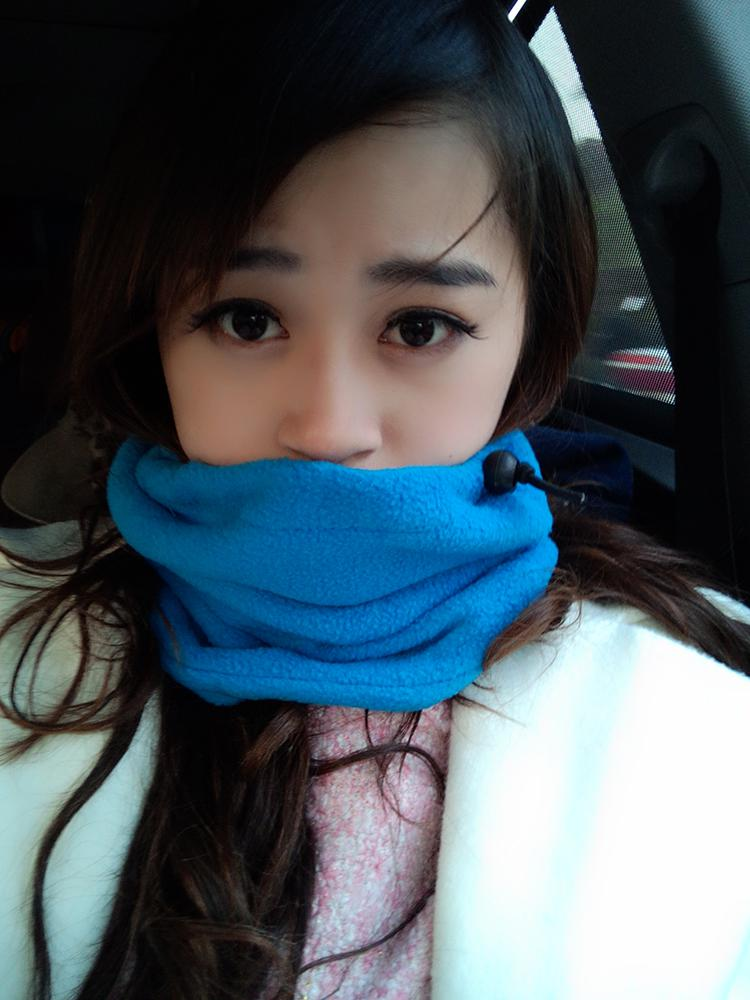WRONG: (148, 195, 529, 556)
